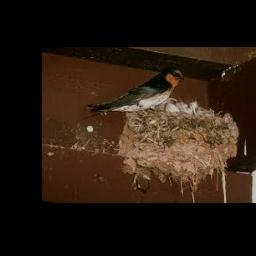Swallow: (88, 68, 184, 113)
